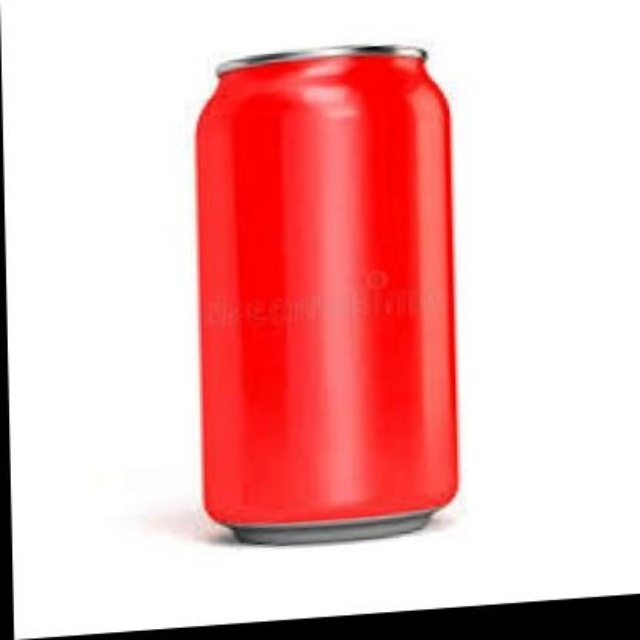trash: (197, 46, 457, 543)
